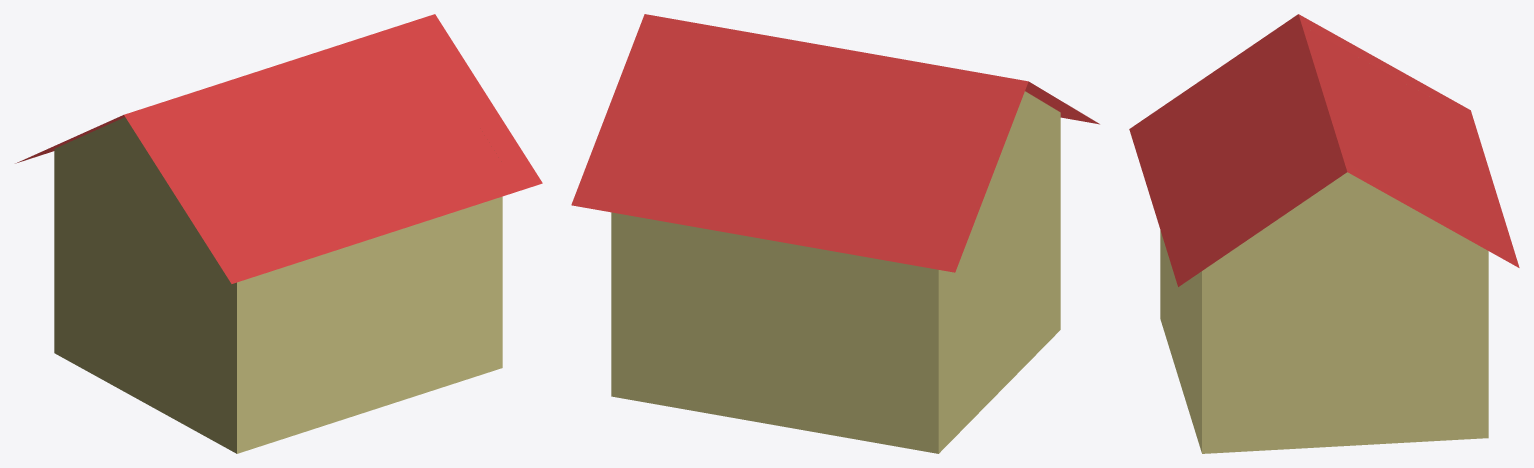
The picture shows the model from 3 angles, left to right: view 1: azimuth 30°, elevation 25°; view 2: azimuth 150°, elevation 25°; view 3: azimuth 270°, elevation 25°; orthographic projection. The views are drawn at different scales.
Bounding box in the file's own units: 15.08 × 14.06 × 11.35.
